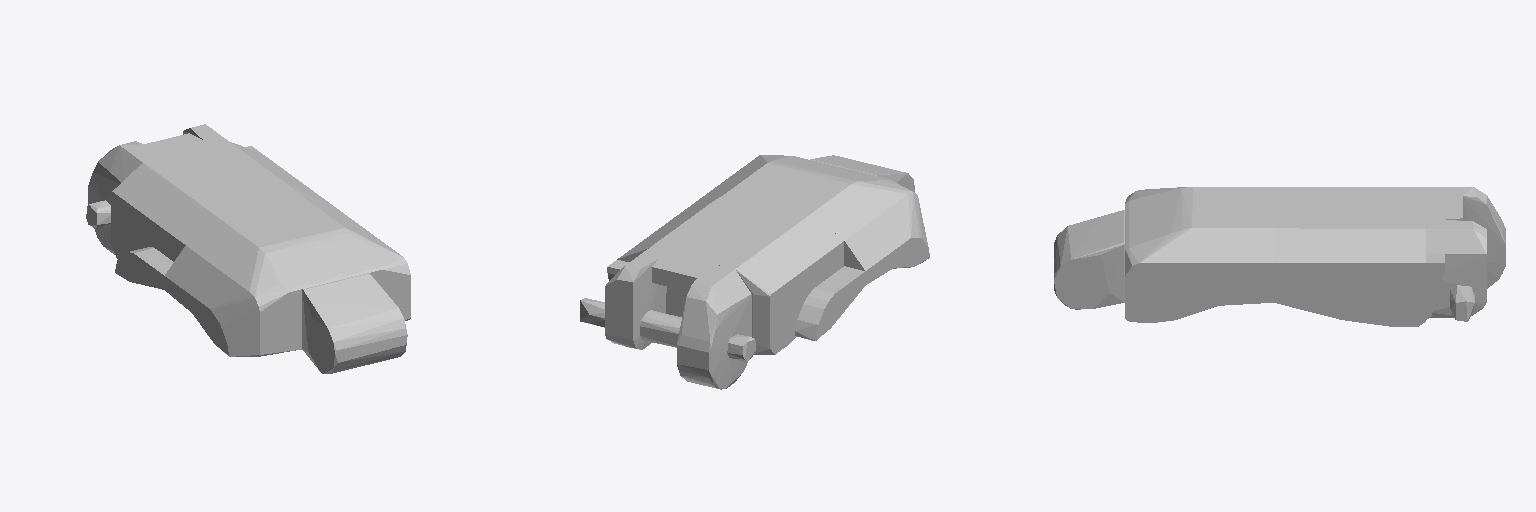
File: r_proximal_vhacd.obj
3 renders of one model, left to right at view 1: azimuth 30°, elevation 25°; view 2: azimuth 150°, elevation 25°; view 3: azimuth 270°, elevation 25°, orthographic.
Parts seen in each view (by area): view 1: convex_4, convex_2, convex_0, convex_3, convex_6, convex_1, convex_8, convex_5; view 2: convex_2, convex_4, convex_6, convex_3, convex_9, convex_1, convex_8, convex_7, convex_0, convex_5, convex_10; view 3: convex_2, convex_4, convex_3, convex_0, convex_9, convex_6, convex_8, convex_11, convex_10.
Boxes of the visible parts, x1,y1,x2,y2 form: convex_4: [192, 218, 410, 356]; convex_2: [111, 142, 335, 261]; convex_0: [302, 273, 407, 373]; convex_3: [164, 198, 364, 312]; convex_6: [88, 141, 161, 254]; convex_1: [115, 247, 173, 289]; convex_8: [145, 133, 210, 157]; convex_5: [86, 200, 110, 228]; convex_2: [617, 193, 843, 354]; convex_4: [722, 155, 929, 268]; convex_6: [677, 265, 751, 389]; convex_3: [695, 173, 893, 284]; convex_9: [605, 248, 666, 349]; convex_1: [795, 266, 865, 340]; convex_8: [652, 253, 714, 291]; convex_7: [640, 310, 681, 347]; convex_0: [810, 155, 914, 192]; convex_5: [727, 334, 755, 361]; convex_10: [580, 298, 604, 327]; convex_2: [1274, 187, 1425, 326]; convex_4: [1125, 187, 1217, 322]; convex_3: [1218, 187, 1273, 305]; convex_0: [1054, 210, 1124, 309]; convex_9: [1426, 220, 1486, 317]; convex_6: [1426, 187, 1505, 288]; convex_8: [1426, 196, 1462, 220]; convex_11: [1426, 254, 1444, 319]; convex_10: [1450, 285, 1474, 321].
Size of the model in its own units: 0.0402 by 0.0203 by 0.0834.